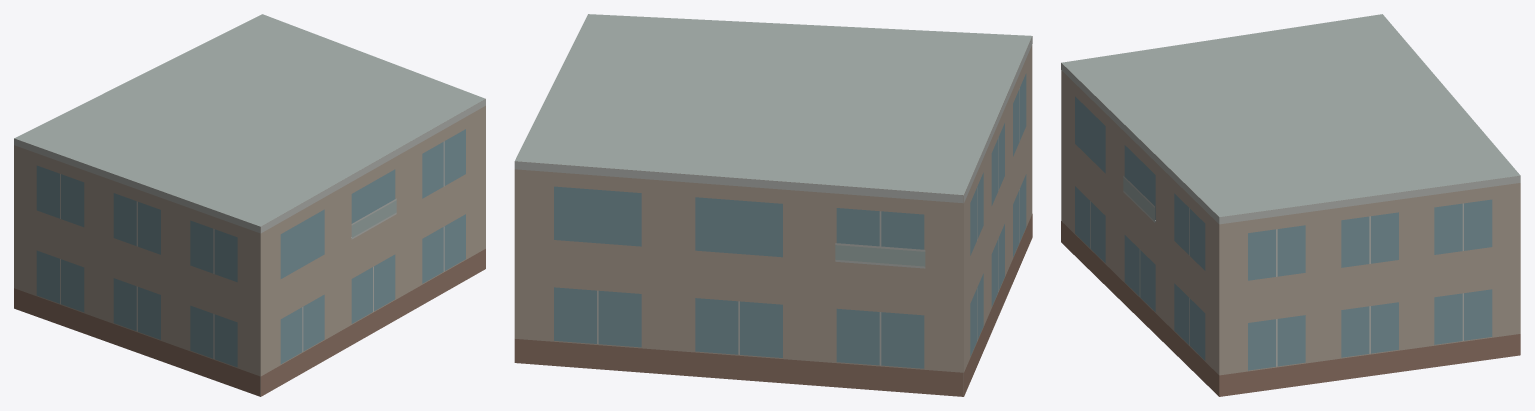
The model's file is survey-upis-32833599.glb.
The picture shows the model from 3 angles, left to right: view 1: azimuth 30°, elevation 25°; view 2: azimuth 150°, elevation 25°; view 3: azimuth 270°, elevation 25°; orthographic projection. The views are drawn at different scales.
Parts seen in each view (by area): view 1: survey-upis-32833599.tmp; view 2: survey-upis-32833599.tmp; view 3: survey-upis-32833599.tmp.
Boxes of the visible parts, box(x1,y1,x2,y2) form: survey-upis-32833599.tmp: box(14, 14, 485, 396); survey-upis-32833599.tmp: box(514, 14, 1032, 396); survey-upis-32833599.tmp: box(1061, 14, 1520, 396).
Bounding box in the file's own units: 14.81 × 6.1 × 14.15.
